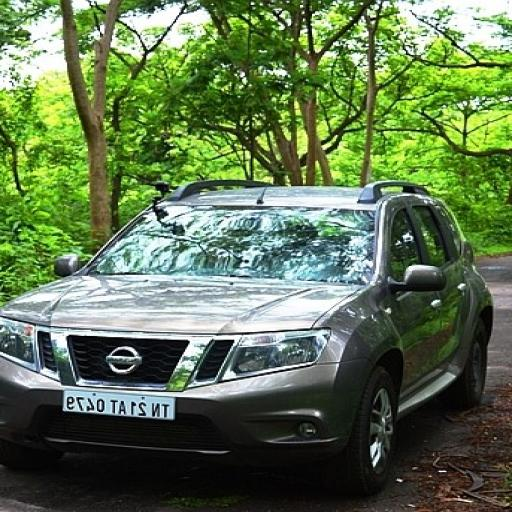License: (62, 384, 178, 419)
